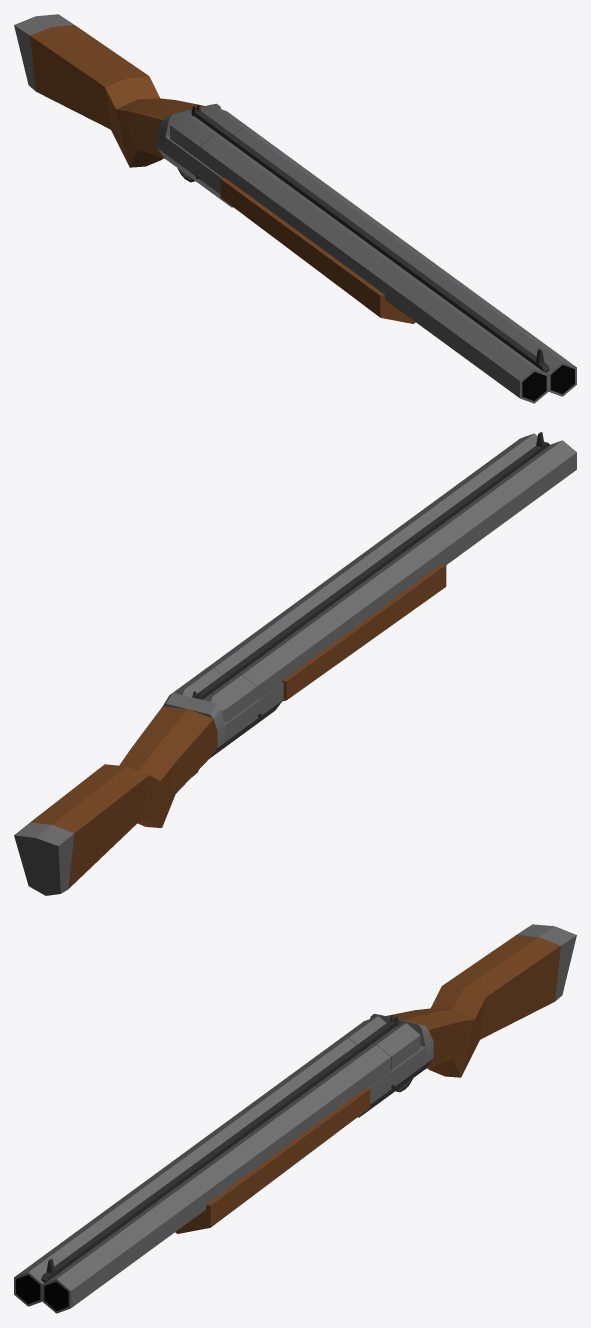
The model's file is LP_ASST_DoubleBarrelShotgunV3.fbx.
3 views of the same model, one above another, from view 1: azimuth 30°, elevation 25°; view 2: azimuth 150°, elevation 25°; view 3: azimuth 330°, elevation 25° (orthographic).
Parts seen in each view (by area): view 1: Shotgun_Front, Shotgun_Back; view 2: Shotgun_Front, Shotgun_Back; view 3: Shotgun_Front, Shotgun_Back.
Part boxes in pixels (x1,y1,x2,y2): Shotgun_Front: (200,128,576,403); Shotgun_Back: (14,14,255,189); Shotgun_Front: (200,432,576,727); Shotgun_Back: (14,668,261,895); Shotgun_Front: (14,1038,392,1313); Shotgun_Back: (335,924,576,1098).
Bounding box in the file's own units: 0.9983 × 1.52 × 13.45.
